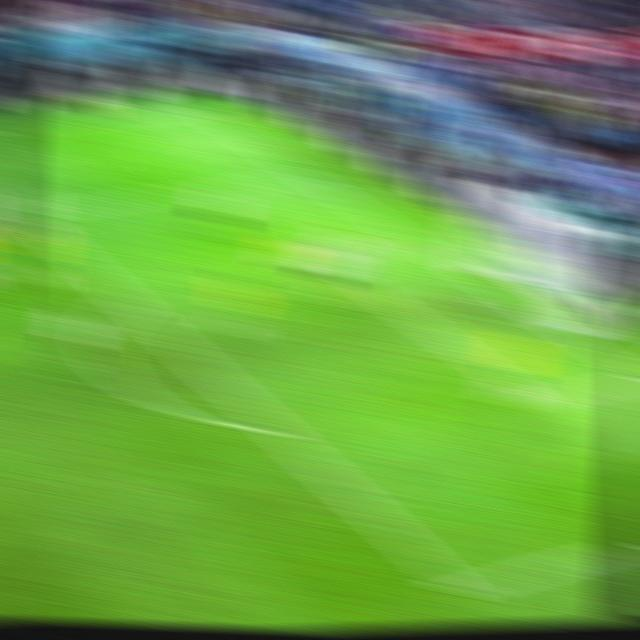bigarea_bottom_inner: (435, 568, 483, 614)
bigarea_top_outter: (289, 165, 323, 187)
bottom_arc_area_intersection: (256, 418, 298, 445)
corner: (178, 102, 215, 122)
smallarea_bottom_inner: (516, 388, 554, 411)
smallarea_top_outter: (390, 227, 430, 253)
top_arc_area_intersection: (108, 286, 148, 316)
